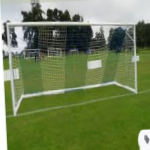goals: (4, 19, 142, 117)
